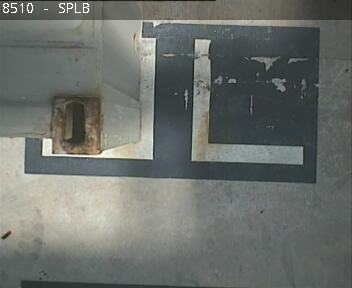groundmarker_1: (42, 39, 303, 163)
